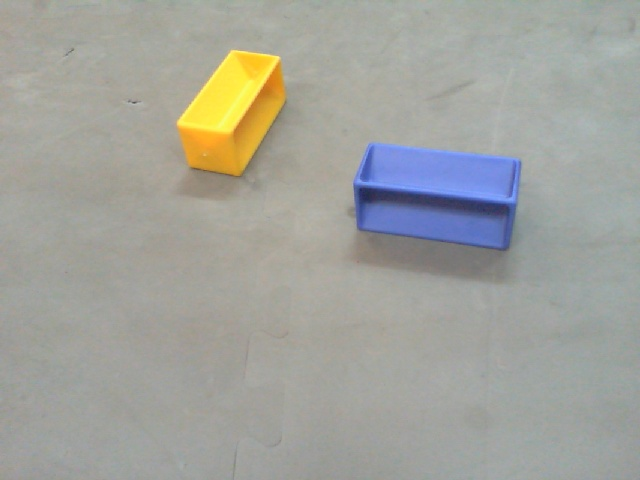BlueSample: (353, 140, 523, 259)
YellowSample: (173, 47, 288, 188)
